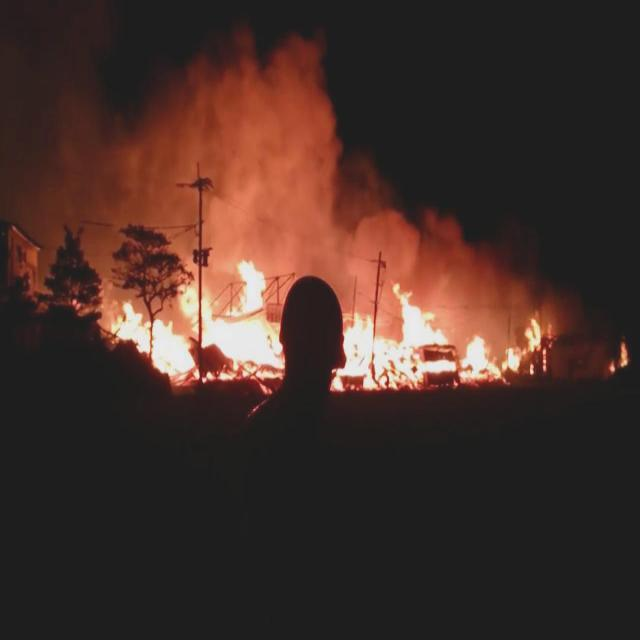Fire: (119, 276, 267, 378), (360, 312, 500, 370)
Smoke: (162, 96, 332, 254), (363, 220, 467, 314)
